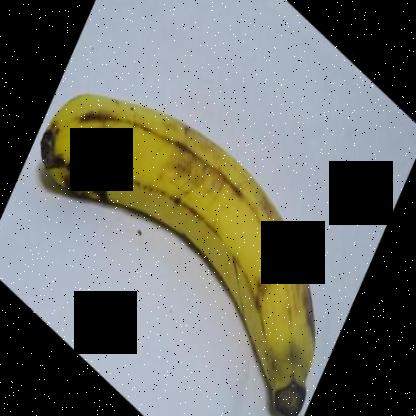ripe: (30, 75, 336, 415)
